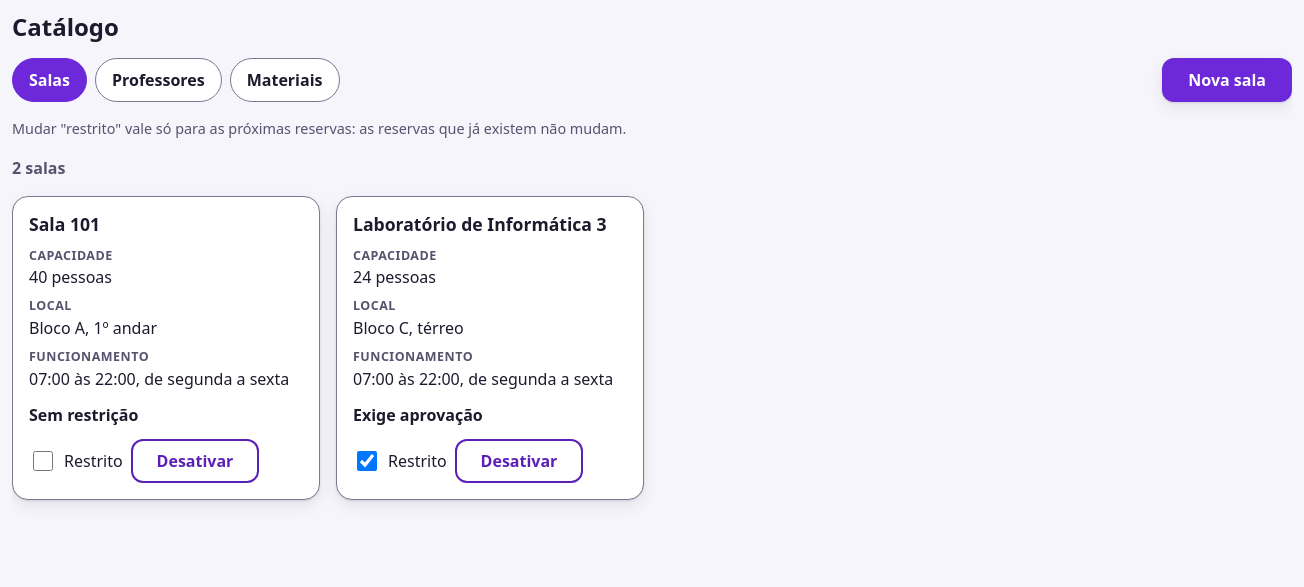
PaginaDoCatalogo: restrito › marcar envia restrito verdadeiro, a lista é refeita e o resultado é anunciado com o foco
Click the checkbox named "Restrito Sala 101" at (43, 461), box [33,451,53,471]
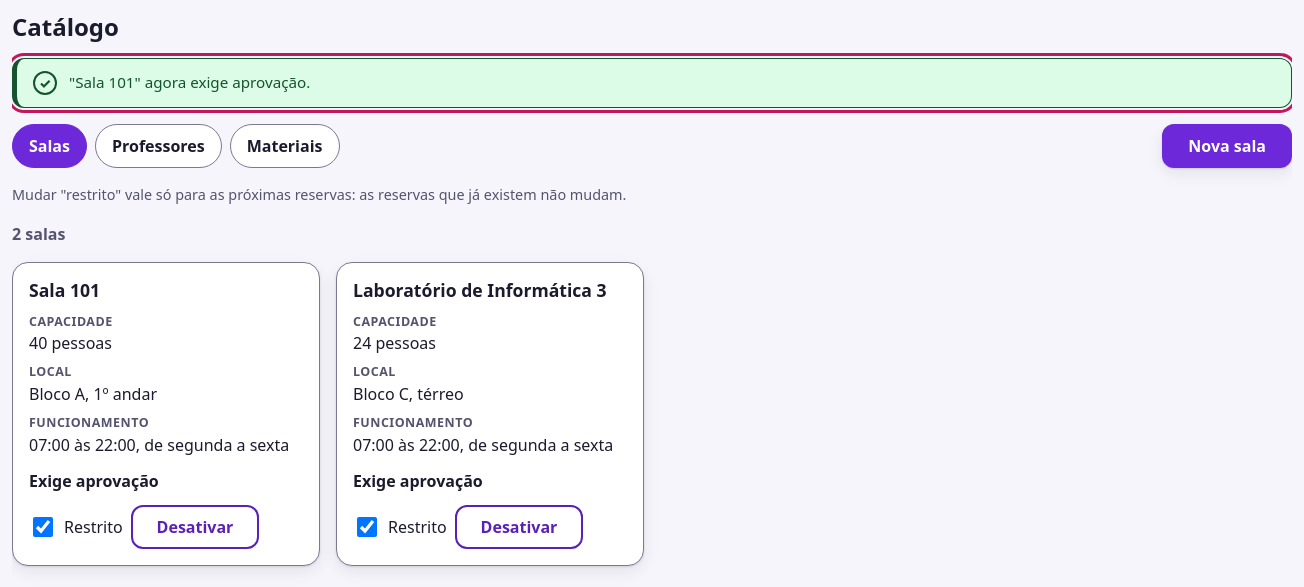
Expected: the checkbox labelled "Restrito" below "Bloco A, 1º andar" is checked, [33,517,53,537]
Expected: the text "\"Sala 101\" agora exige aprovação." is shown, [69,72,310,92]
